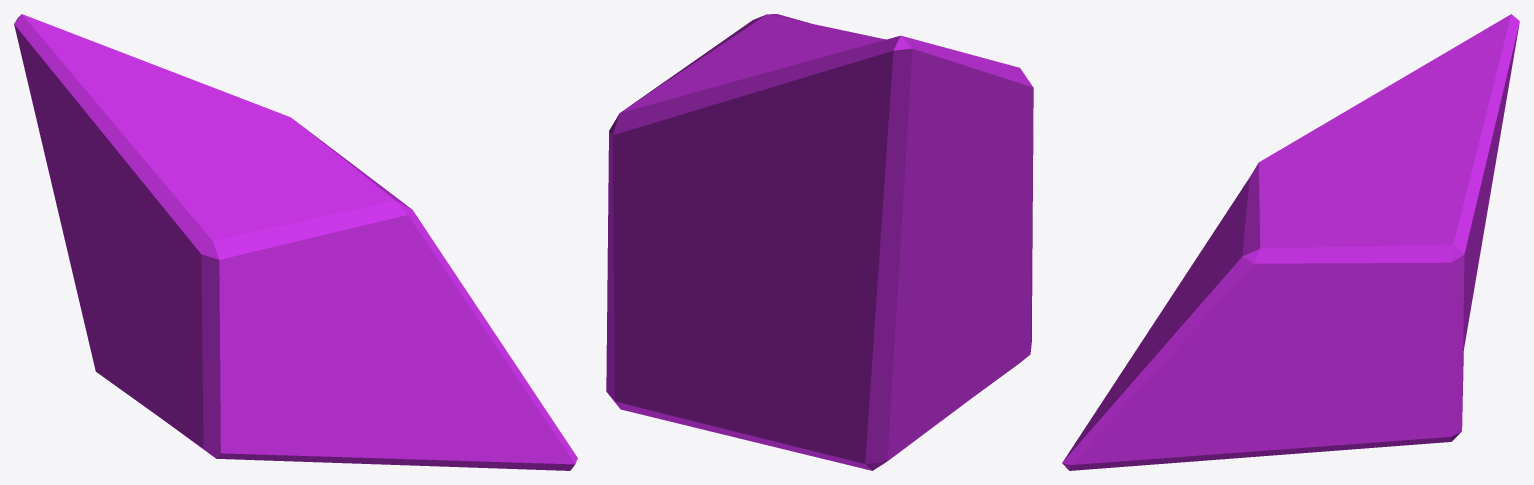
Rendered from random3.gltf.
3 views of the same model, side by side, from view 1: azimuth 30°, elevation 25°; view 2: azimuth 150°, elevation 25°; view 3: azimuth 270°, elevation 25° (orthographic). The views are drawn at different scales.
Parts seen in each view (by area): view 1: Cube; view 2: Cube; view 3: Cube.
Part boxes in pixels (<box>): Cube: <box>14,14,577,470</box>; Cube: <box>606,14,1033,470</box>; Cube: <box>1062,14,1519,470</box>.
Bounding box in the file's own units: 3.18 × 3.35 × 4.31.
